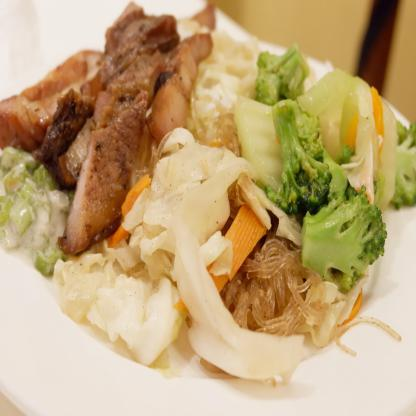Carne: (80, 14, 166, 230)
